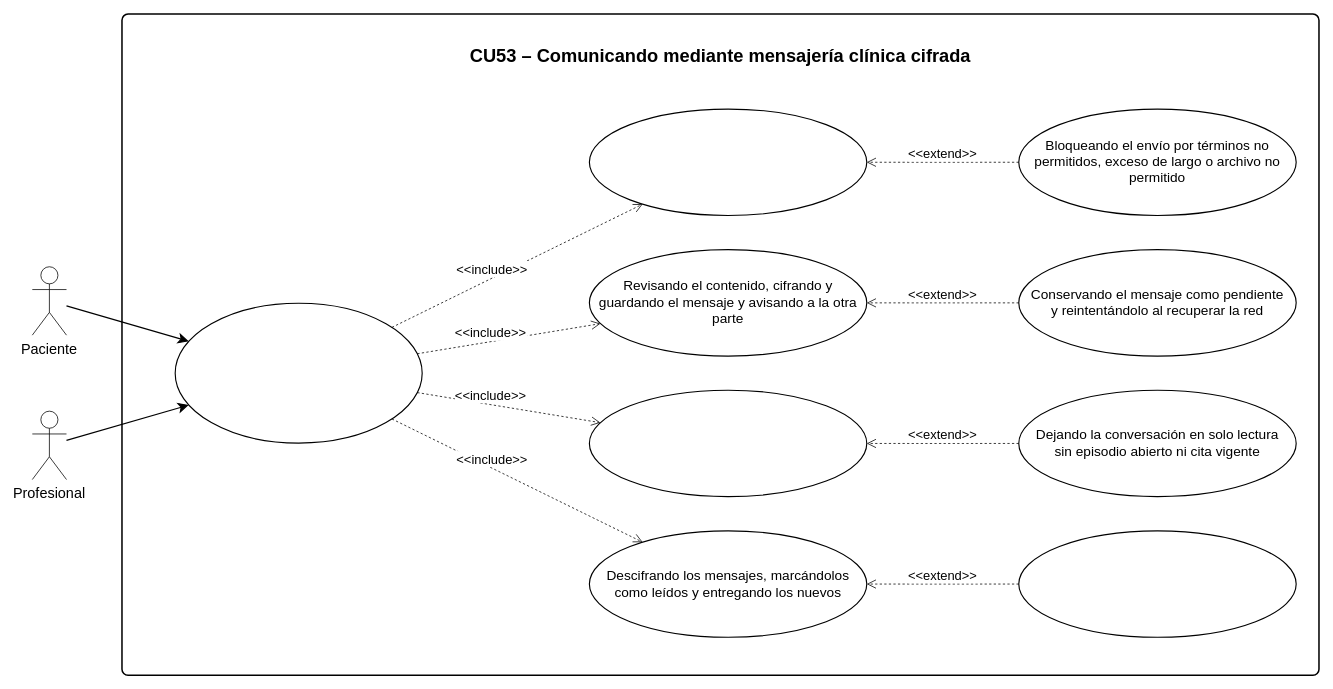
Some shapes in this 1333 by 689 pixel diagram are drawn without their labels. The centre of each missing label's shape, as x and y in pixels:
Abriendo la conversación desde la otra parte: the point at 727,443
Abriendo la conversación y escribiendo un mensaje o adjuntando un archivo: the point at 727,162
Comunicando mediante mensajería clínica cifrada: the point at 298,372
Mostrando el mensaje como ilegible con advertencia: the point at 1157,583
